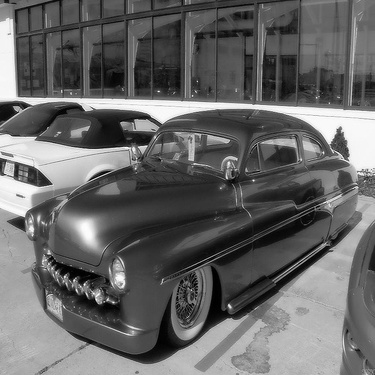car: (19, 108, 363, 342)
